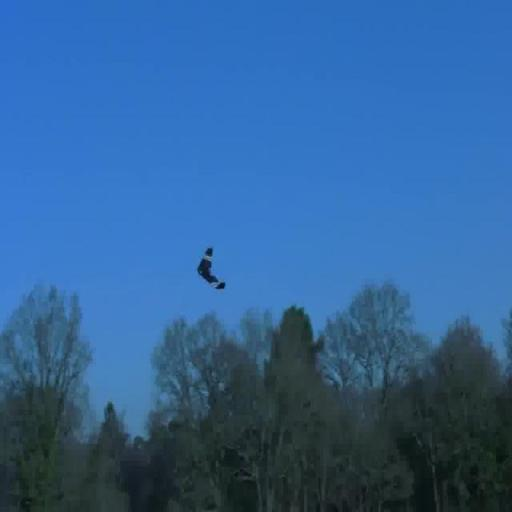uav: (194, 240, 232, 298)
